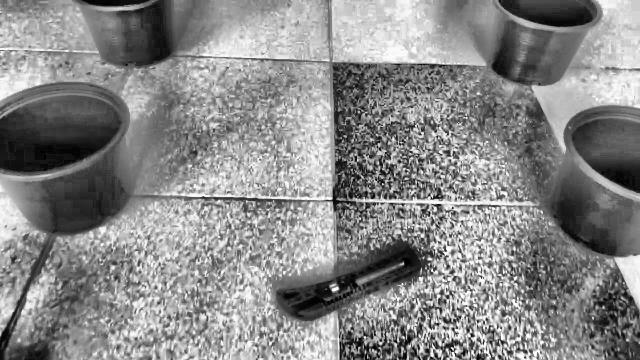pot: (0, 82, 134, 236), (548, 106, 640, 257), (488, 0, 603, 87), (70, 0, 177, 68)
